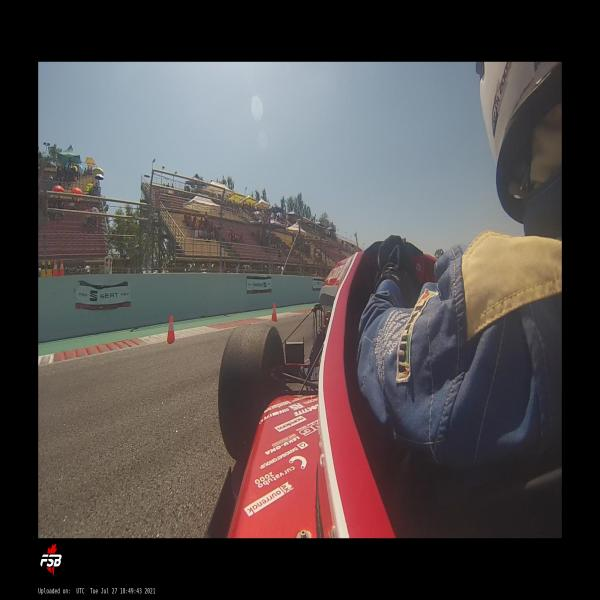orange_cone: (165, 316, 178, 344), (272, 304, 277, 322), (59, 260, 64, 276), (53, 260, 58, 276)
yellow_cone: (40, 260, 46, 277), (47, 260, 52, 277)
